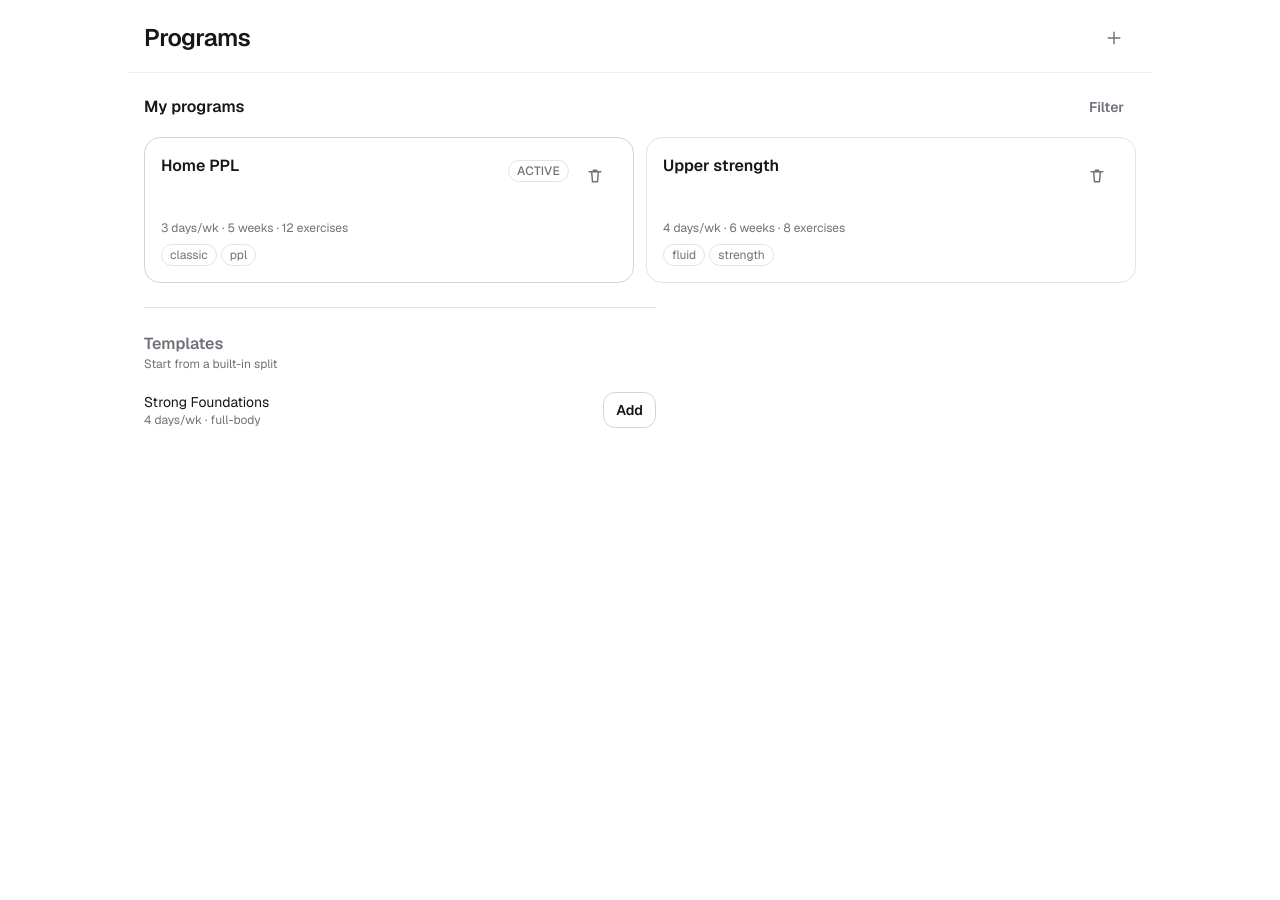
Test: ProgramGallery › hides tag chips until Filter opens, then filters and clears
The width and height of the screenshot is (1280, 900).
Expected: the text "Filtered ·" is not shown
Click the button "Filter".
click(1106, 107)  # box [1077,89,1136,125]
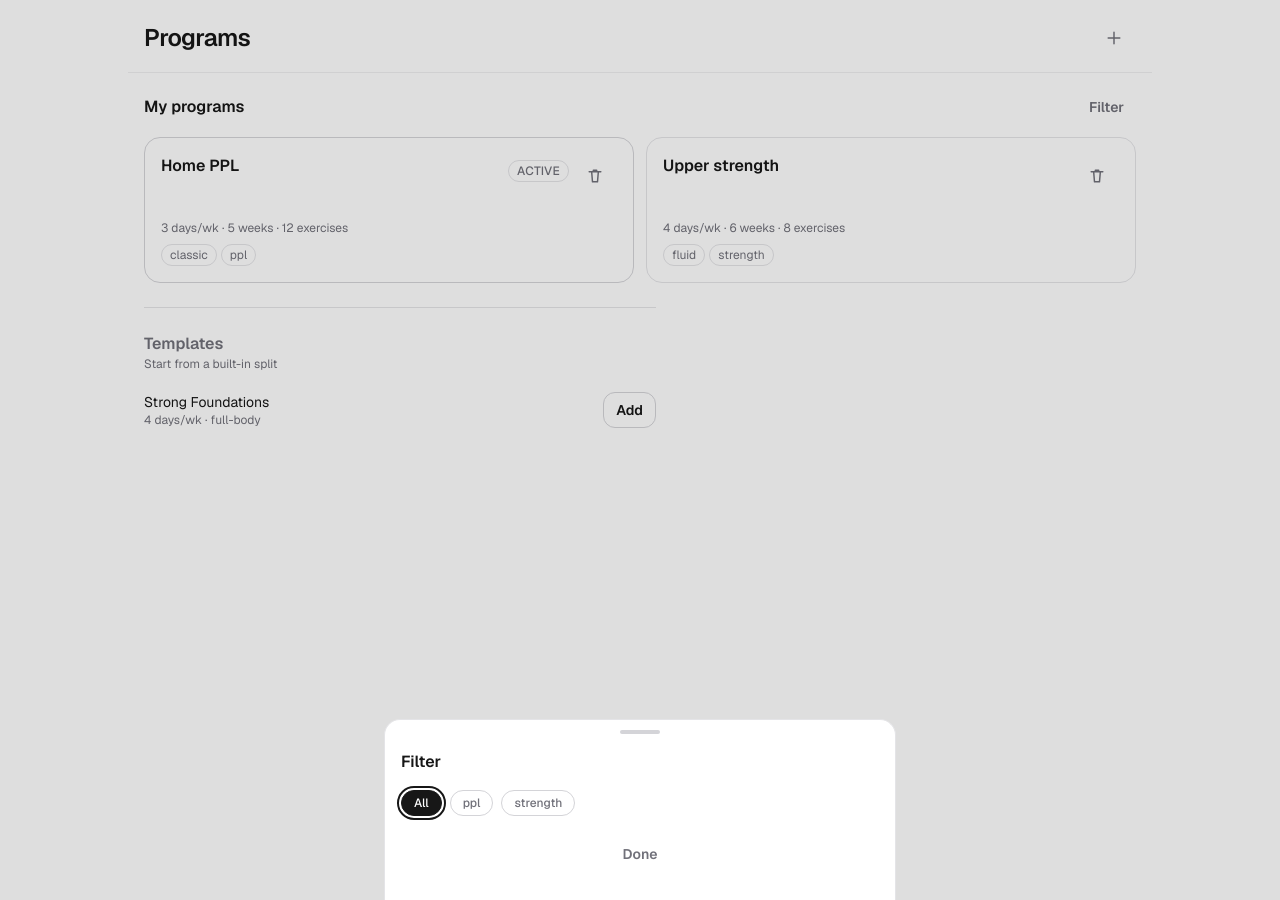
Click the button "ppl".
click(472, 803)  # box [450,790,494,816]
Wait 250 ms
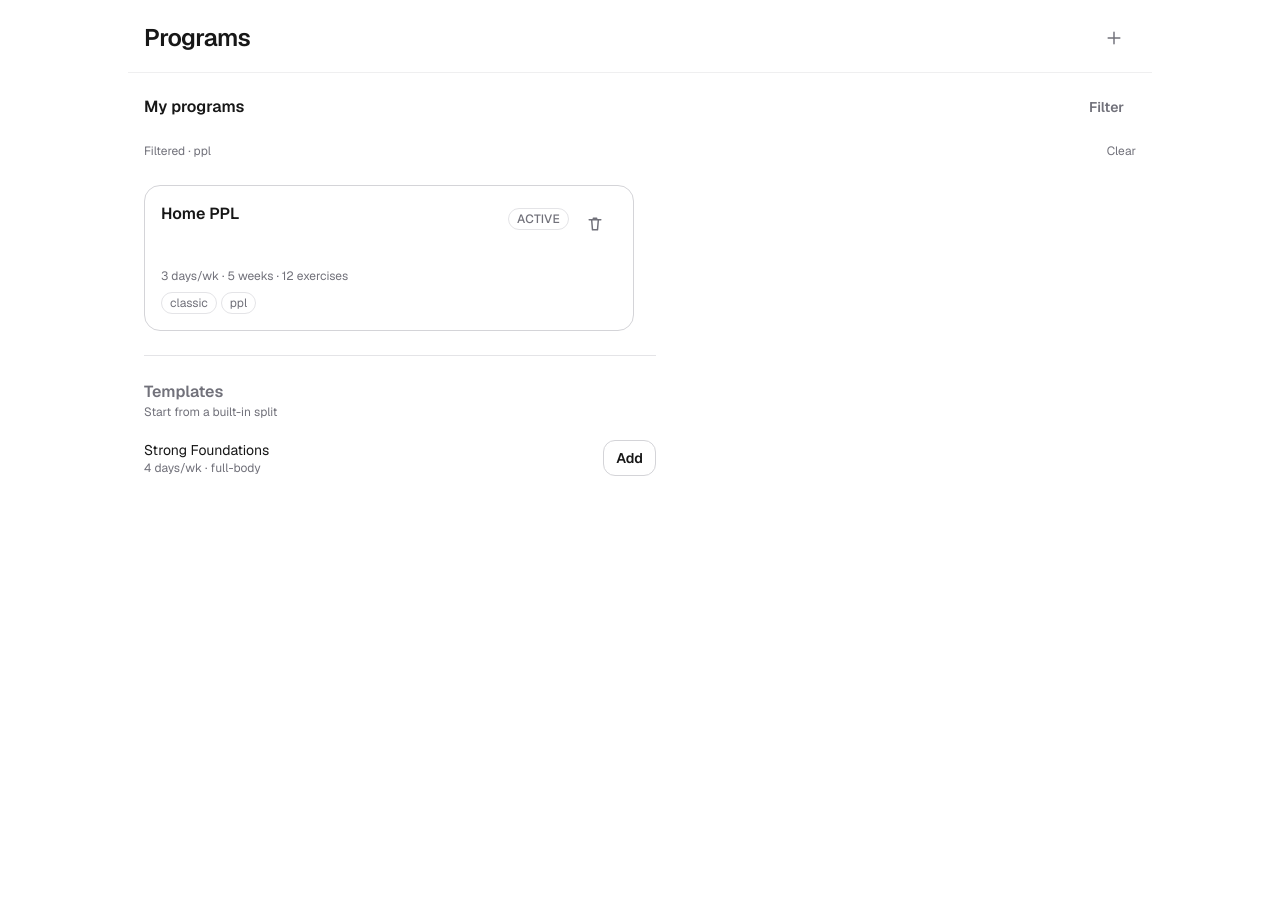
Expected: the text "Strong Foundations" is shown, [144,440,269,460]
Expected: the text "Filtered · ppl" is shown, [144,129,211,173]
Expected: the dialog is gone
Click the button "Clear".
click(1121, 151)  # box [1107,129,1136,173]
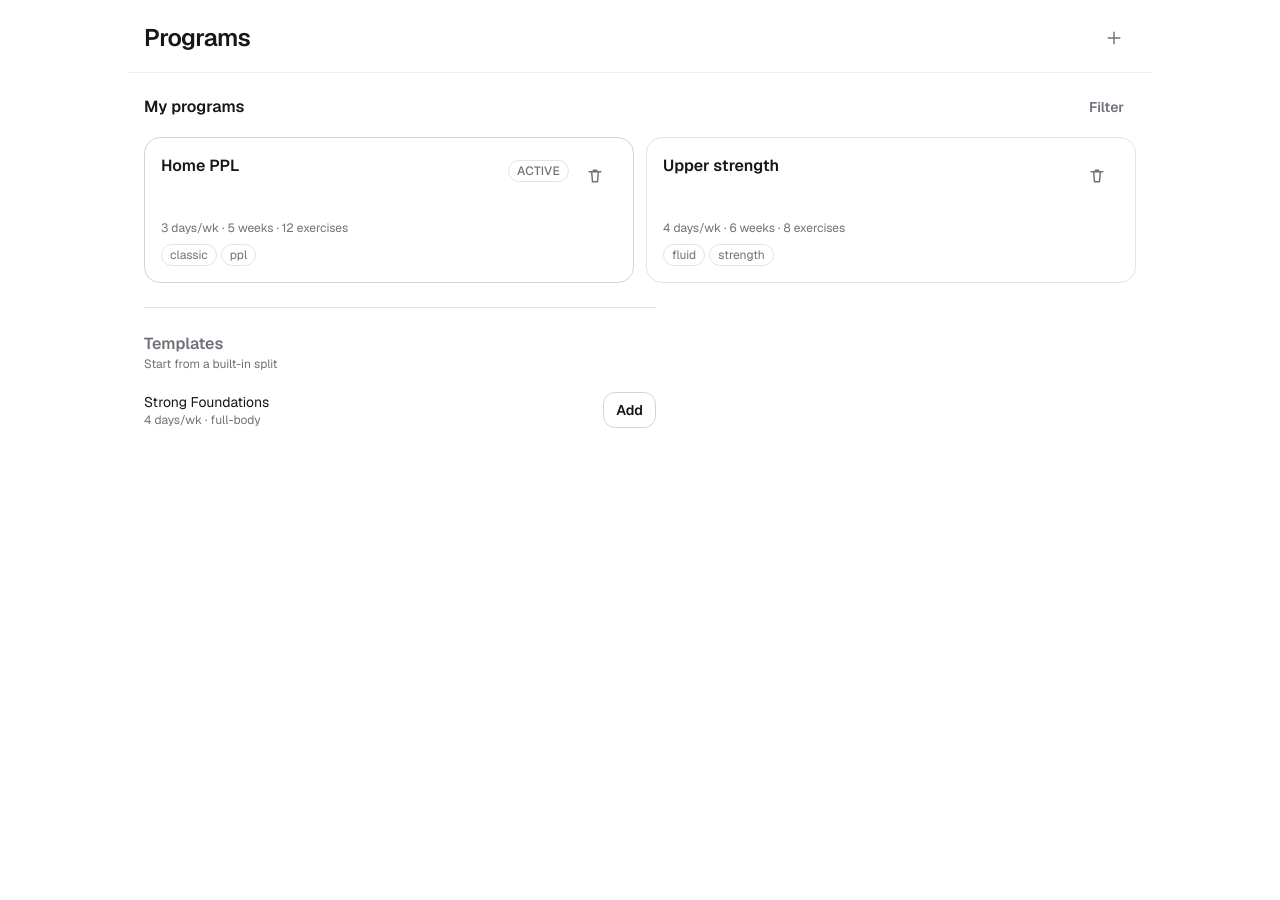
Expected: the text "Filtered ·" is gone
